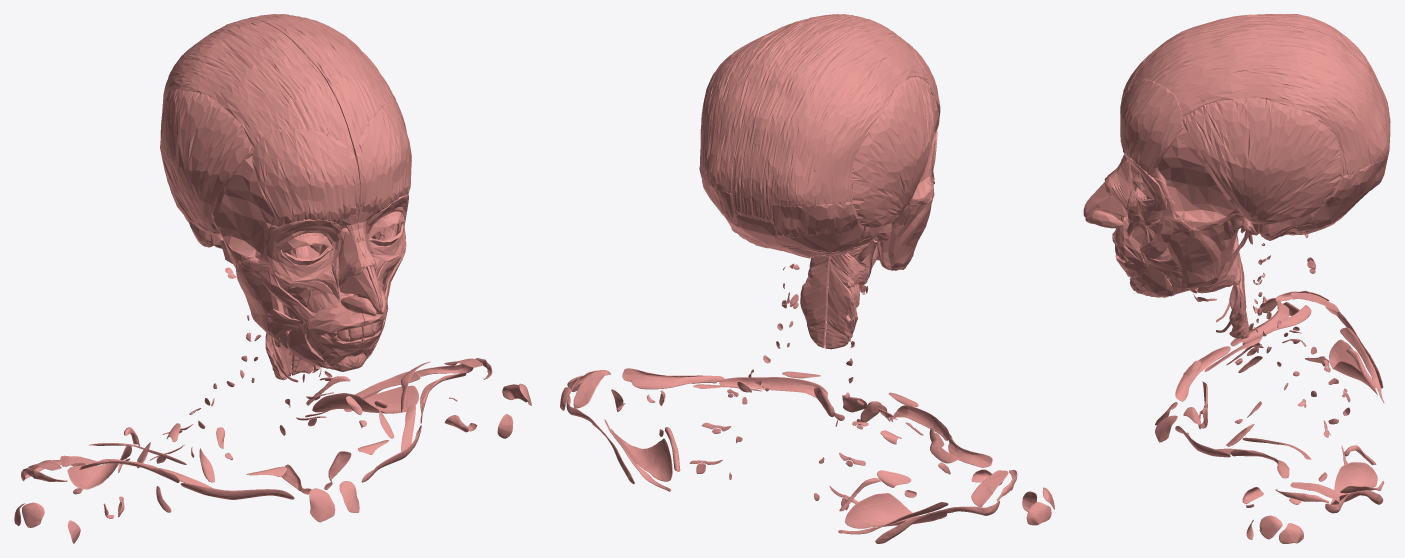
File: head.glb
3 renders of one model, left to right at view 1: azimuth 30°, elevation 25°; view 2: azimuth 150°, elevation 25°; view 3: azimuth 270°, elevation 25°, orthographic. The views are drawn at different scales.
Parts seen in each view (by area): view 1: Epicranial aponeurosis.r, Temporoparietalis muscle.r, Frontalis muscle.r, Epicranial aponeurosis.l, Frontalis muscle.l, Superficial layer of temporal fascia.r, Orbital part of orbicularis oculi.r, Orbicularis oris muscle.r, Supraspinatus muscle.ol, Masseteric fascia.r, Orbital part of orbicularis oculi.l, Supraspinatus muscle.or (+10 smaller); view 2: Epicranial aponeurosis.r, Epicranial aponeurosis.l, Temporoparietalis muscle.r, Occipital bone, Occipitalis muscle.r, Supraspinatus muscle.or, Inferior pharyngeal constrictor.r, Inferior pharyngeal constrictor.l, Masseteric fascia.r, Supraspinatus muscle.ol, Pectoralis major muscle.ol, Scapular spinal part of deltoid muscle.or (+7 smaller); view 3: Epicranial aponeurosis.l, Temporoparietalis muscle.l, Frontalis muscle.l, Superficial layer of temporal fascia.l, Masseteric fascia.l, Epicranial aponeurosis.r, Occipitalis muscle.l, Temporal bone.l, Orbicularis oris muscle.l, Supraspinatus muscle.ol, Orbital part of orbicularis oculi.l, Supraspinatus muscle.or (+21 smaller).
Boxes of the visible parts, x1,y1,x2,y2 form: Epicranial aponeurosis.r: (160, 18, 355, 156); Temporoparietalis muscle.r: (161, 89, 253, 234); Frontalis muscle.r: (252, 128, 359, 226); Epicranial aponeurosis.l: (246, 14, 397, 156); Frontalis muscle.l: (355, 103, 411, 219); Superficial layer of temporal fascia.r: (214, 155, 273, 259); Orbital part of orbicularis oculi.r: (266, 219, 341, 282); Orbicularis oris muscle.r: (303, 301, 364, 356); Supraspinatus muscle.ol: (312, 385, 418, 413); Masseteric fascia.r: (220, 240, 282, 343); Orbital part of orbicularis oculi.l: (365, 194, 408, 262); Supraspinatus muscle.or: (67, 446, 131, 489); Epicranial aponeurosis.r: (751, 16, 929, 223); Epicranial aponeurosis.l: (700, 14, 858, 219); Temporoparietalis muscle.r: (851, 76, 935, 227); Occipital bone: (726, 214, 863, 257); Occipitalis muscle.r: (771, 202, 858, 238); Supraspinatus muscle.or: (845, 493, 946, 528); Inferior pharyngeal constrictor.r: (825, 261, 857, 349); Inferior pharyngeal constrictor.l: (800, 261, 829, 347); Masseteric fascia.r: (888, 196, 932, 268); Supraspinatus muscle.ol: (611, 429, 672, 481); Pectoralis major muscle.ol: (719, 377, 827, 397); Scapular spinal part of deltoid muscle.or: (875, 500, 999, 543); Epicranial aponeurosis.l: (1129, 24, 1390, 177); Temporoparietalis muscle.l: (1182, 97, 1341, 224); Frontalis muscle.l: (1120, 78, 1184, 175); Superficial layer of temporal fascia.l: (1157, 126, 1239, 221); Masseteric fascia.l: (1167, 221, 1231, 291); Epicranial aponeurosis.r: (1129, 14, 1390, 127); Occipitalis muscle.l: (1325, 149, 1389, 205); Temporal bone.l: (1183, 211, 1314, 246); Orbicularis oris muscle.l: (1112, 220, 1148, 277); Supraspinatus muscle.ol: (1330, 462, 1377, 504); Orbital part of orbicularis oculi.l: (1124, 154, 1167, 222); Supraspinatus muscle.or: (1329, 339, 1377, 394).
Size of the model in its own units: 0.3898 by 0.3354 by 0.221.
